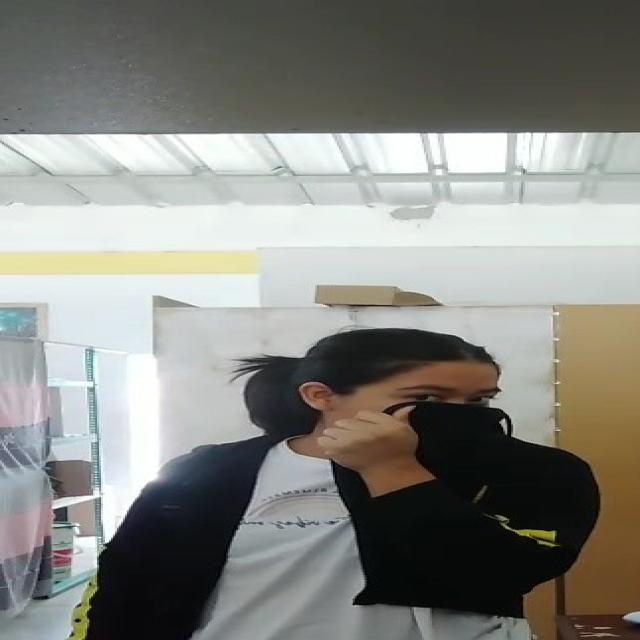8_ropa_rostro: (323, 398, 521, 501)
